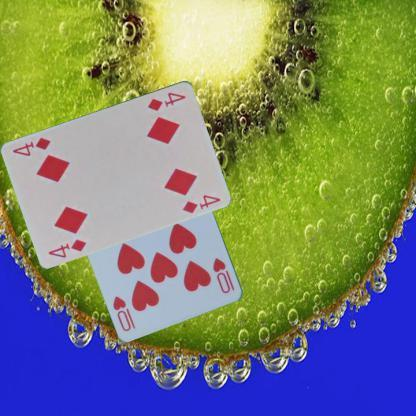10h: (210, 254, 235, 295)
4d: (145, 89, 188, 112), (45, 236, 87, 259)
